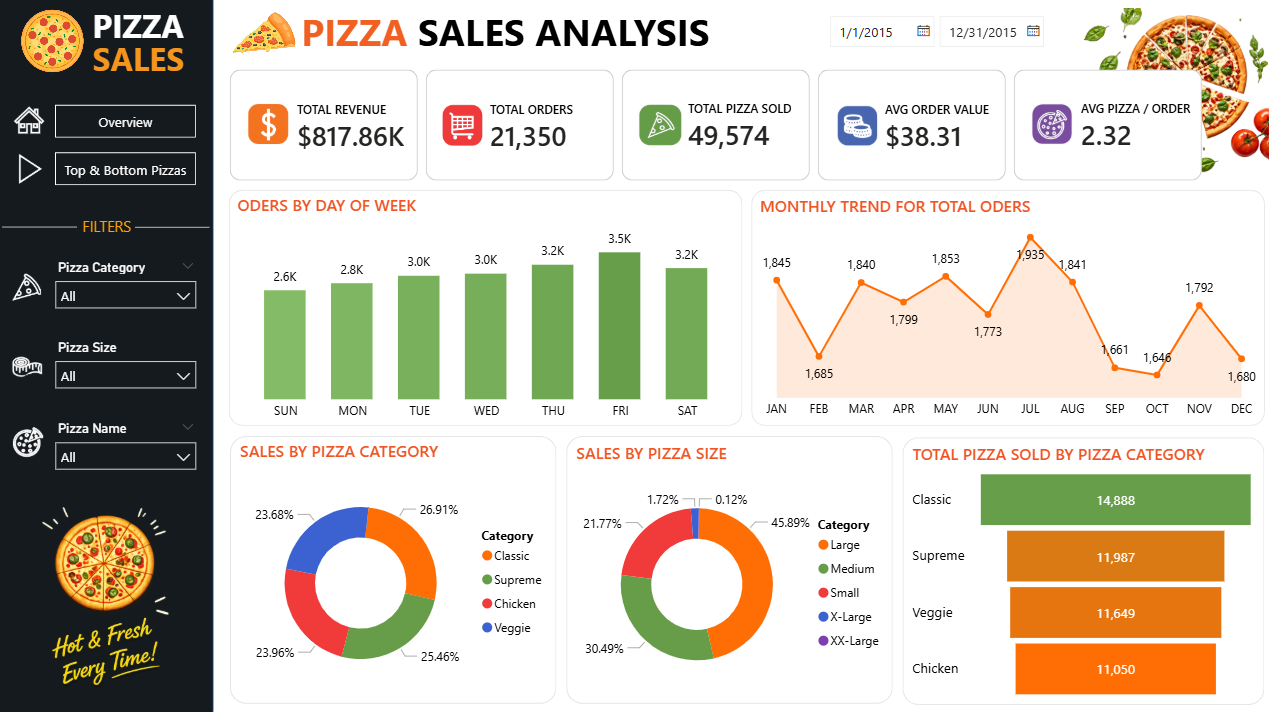

This screenshot's page, from the dashboard's own definition file:
{"tool":"powerbi","page":{"name":"Overview","canvas":[1280,720],"ordinal":0},"visuals":[{"type":"shape","box":[0,0,218.8,720],"z":0},{"type":"textbox","box":[92.6,2.8,146.2,85],"z":1000},{"type":"image","box":[13.3,5,87.5,80],"z":2000},{"type":"textbox","box":[92.5,36.2,146.2,85],"z":3000},{"type":"image","box":[230.3,5,78.8,63.8],"z":4000},{"type":"textbox","box":[301.5,5,571.2,85],"z":5000},{"type":"image","box":[1083.8,0,196.2,190],"z":6000},{"type":"cardVisual","fields":{"Data":["pizza_sales.Total Revenue","pizza_sales.Total Oders","pizza_sales.Total Pizza Sold","pizza_sales.Average Order Value","pizza_sales.Average Pizzas Per Order"]},"box":[230.5,68.7,983.8,121.2],"z":7000},{"type":"shape","box":[233.8,194,513.8,236.2],"z":8000},{"type":"clusteredColumnChart","title":"ODERS BY DAY OF WEEK","fields":{"Category":["pizza_sales.Oder Day"],"Y":["pizza_sales.Total Oders"]},"box":[237.2,198.1,508.7,236],"z":9000},{"type":"shape","box":[756.2,194,513.8,236.2],"z":10000},{"type":"areaChart","title":"MONTHLY TREND FOR TOTAL ODERS ","fields":{"Category":["pizza_sales.Oder Month"],"Y":["pizza_sales.Total Oders"]},"box":[760.6,199.3,508.7,232.3],"z":11000},{"type":"shape","box":[234.8,439.9,326.5,267.8],"z":12000},{"type":"shape","box":[571.1,439.9,326.5,267.8],"z":13000},{"type":"shape","box":[907.3,441.4,362,267.8],"z":14000},{"type":"donutChart","title":"SALES BY PIZZA CATEGORY","fields":{"Category":["pizza_sales.pizza_category"],"Y":["pizza_sales.Total Revenue"]},"box":[239.7,443.9,321.6,265.4],"z":15000},{"type":"donutChart","title":"SALES BY PIZZA SIZE","fields":{"Y":["pizza_sales.Total Revenue"],"Category":["pizza_sales.pizza_size"]},"box":[576,445.1,321.6,265.4],"z":16000},{"type":"funnel","title":"TOTAL PIZZA SOLD BY PIZZA CATEGORY","fields":{"Category":["pizza_sales.pizza_category"],"Y":["pizza_sales.Total Pizza Sold"]},"box":[912.2,446.3,353.4,262.9],"z":17000},{"type":"slicer","fields":{"Values":["pizza_sales.pizza_size"]},"box":[50.4,338.2,161.2,77.5],"z":18000},{"type":"slicer","fields":{"Values":["pizza_sales.pizza_name"]},"box":[50.4,419.5,161.2,78.8],"z":19000},{"type":"image","box":[18.3,503.8,183.4,194.4],"z":20000},{"type":"slicer","fields":{"Values":["pizza_sales.pizza_category"]},"box":[50.1,258.2,161.2,78.8],"z":21000},{"type":"image","box":[0.4,267,57.5,52.5],"z":22000},{"type":"image","box":[9.1,343.2,48.8,56.2],"z":23000},{"type":"image","box":[7.9,422,48.8,48.8],"z":24000},{"type":"slicer","fields":{"Values":["pizza_sales.order_date"]},"box":[822.5,10,237.5,53.8],"z":25000},{"type":"pageNavigator","box":[60,108.8,141.2,33.8],"z":26000},{"type":"pageNavigator","box":[60,156.2,141.2,33.8],"z":27000},{"type":"image","box":[8.8,96.2,52.5,56.2],"z":28000},{"type":"image","box":[8.8,150,52.5,46.2],"z":29000},{"type":"textbox","box":[81.9,215.4,80.7,30.6],"z":30000},{"type":"shape","box":[7.3,193.4,74.6,74.6],"z":31000},{"type":"shape","box":[139.4,204.4,74.6,52.6],"z":32000}]}

Visuals, with their boxes on the page's 1280x720 design canvas (x1, y1, x2, y2). These are canvas units, not pixel positions in the 1272x712 screenshot, which may show the page scaled, cropped or inside an application window:
shape: l=0, t=0, r=219, b=720
textbox: l=93, t=3, r=239, b=88
image: l=13, t=5, r=101, b=85
textbox: l=92, t=36, r=239, b=121
image: l=230, t=5, r=309, b=69
textbox: l=302, t=5, r=873, b=90
image: l=1084, t=0, r=1280, b=190
cardVisual - pizza_sales.Total Revenue x pizza_sales.Total Oders: l=230, t=69, r=1214, b=190
shape: l=234, t=194, r=748, b=430
"ODERS BY DAY OF WEEK" clusteredColumnChart: l=237, t=198, r=746, b=434
shape: l=756, t=194, r=1270, b=430
"MONTHLY TREND FOR TOTAL ODERS " areaChart: l=761, t=199, r=1269, b=432
shape: l=235, t=440, r=561, b=708
shape: l=571, t=440, r=898, b=708
shape: l=907, t=441, r=1269, b=709
"SALES BY PIZZA CATEGORY" donutChart: l=240, t=444, r=561, b=709
"SALES BY PIZZA SIZE" donutChart: l=576, t=445, r=898, b=710
"TOTAL PIZZA SOLD BY PIZZA CATEGORY" funnel: l=912, t=446, r=1266, b=709
slicer - pizza_sales.pizza_size: l=50, t=338, r=212, b=416
slicer - pizza_sales.pizza_name: l=50, t=420, r=212, b=498
image: l=18, t=504, r=202, b=698
slicer - pizza_sales.pizza_category: l=50, t=258, r=211, b=337
image: l=0, t=267, r=58, b=320
image: l=9, t=343, r=58, b=399
image: l=8, t=422, r=57, b=471
slicer - pizza_sales.order_date: l=822, t=10, r=1060, b=64
pageNavigator: l=60, t=109, r=201, b=143
pageNavigator: l=60, t=156, r=201, b=190
image: l=9, t=96, r=61, b=152
image: l=9, t=150, r=61, b=196
textbox: l=82, t=215, r=163, b=246
shape: l=7, t=193, r=82, b=268
shape: l=139, t=204, r=214, b=257
